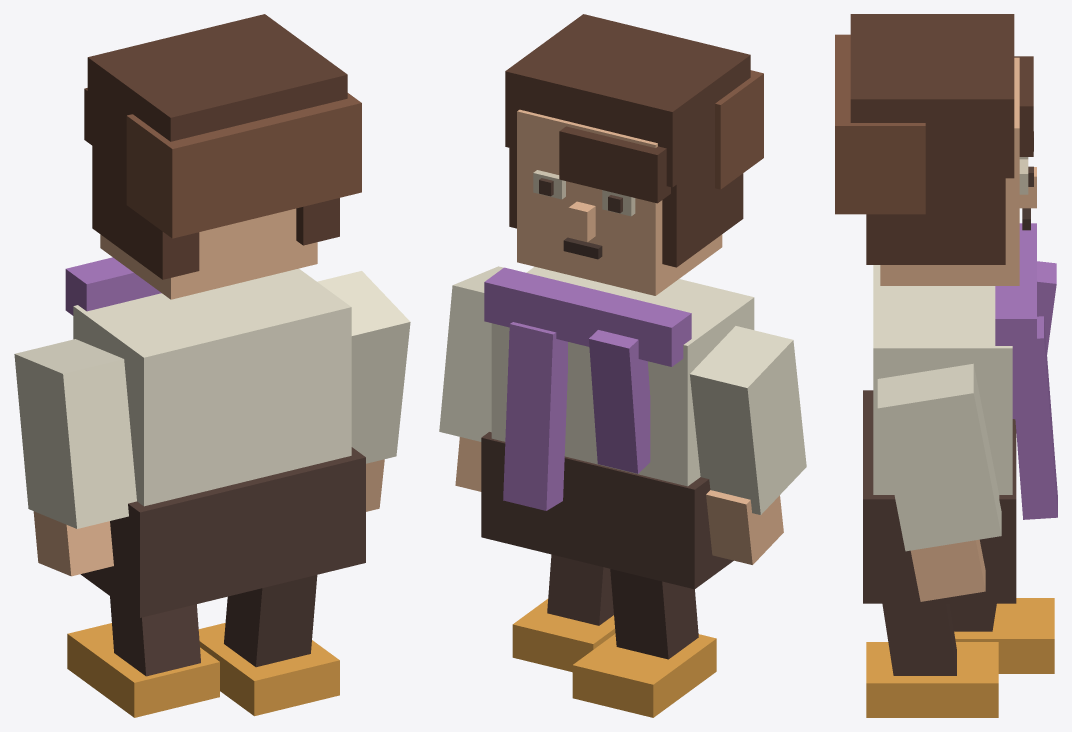
The model's file is orbit_player_character.glb.
3 views of the same model, side by side, from view 1: azimuth 30°, elevation 25°; view 2: azimuth 150°, elevation 25°; view 3: azimuth 270°, elevation 25° (orthographic). The views are drawn at different scales.
Bounding box in the file's own units: 0.00108 × 0.00196 × 0.00064.
